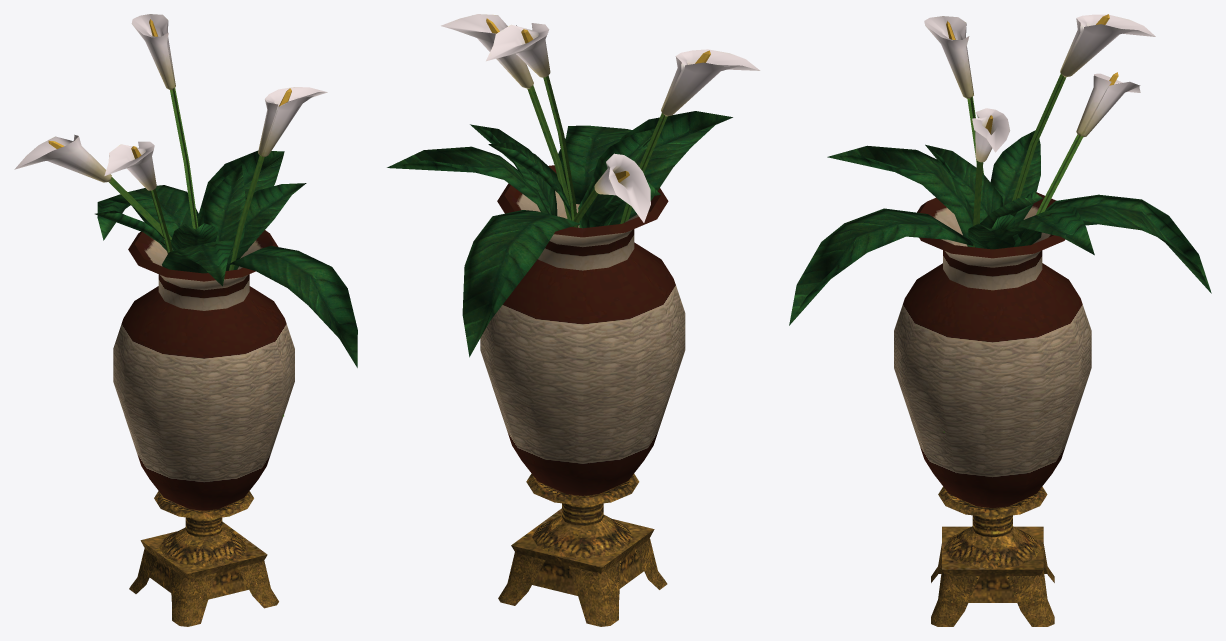
The model's file is Vase01.DAE.
3 views of the same model, side by side, from view 1: azimuth 30°, elevation 25°; view 2: azimuth 150°, elevation 25°; view 3: azimuth 270°, elevation 25° (orthographic). The views are drawn at different scales.
Visible parts, largest first — view 1: Plane001; view 2: Plane001; view 3: Plane001.
Part boxes in pixels (x1,y1,x2,y2): Plane001: (14,14,357,626); Plane001: (387,14,760,626); Plane001: (789,14,1211,626).
Size of the model in its own units: 0.4761 by 0.6244 by 0.9547.
